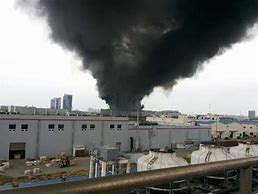smoke: (41, 1, 258, 111)
